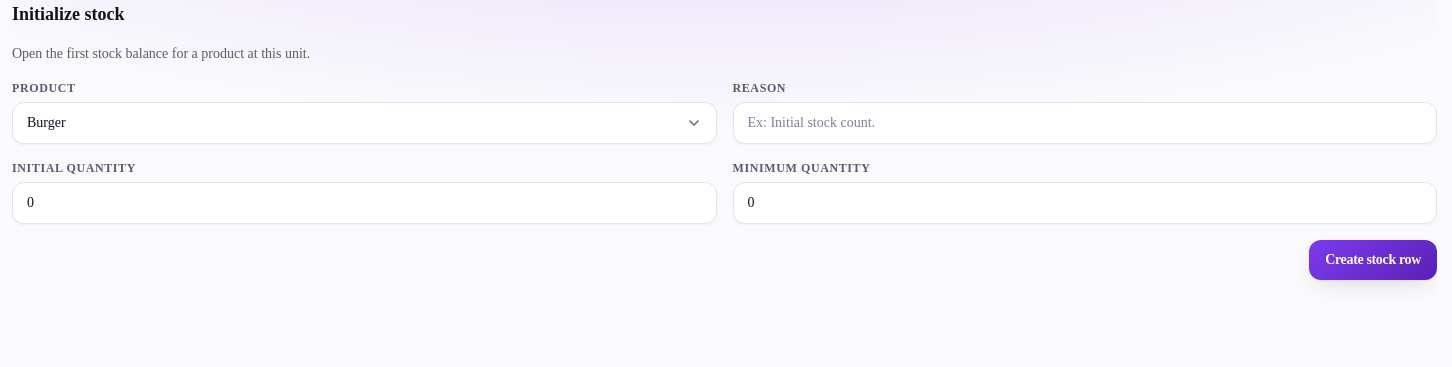
Test: InitStockForm › shows the generic failure message for an unmapped error
The width and height of the screenshot is (1452, 367).
In the field labelled "Reason": (1085, 123) [732,102,1437,144], type "x"
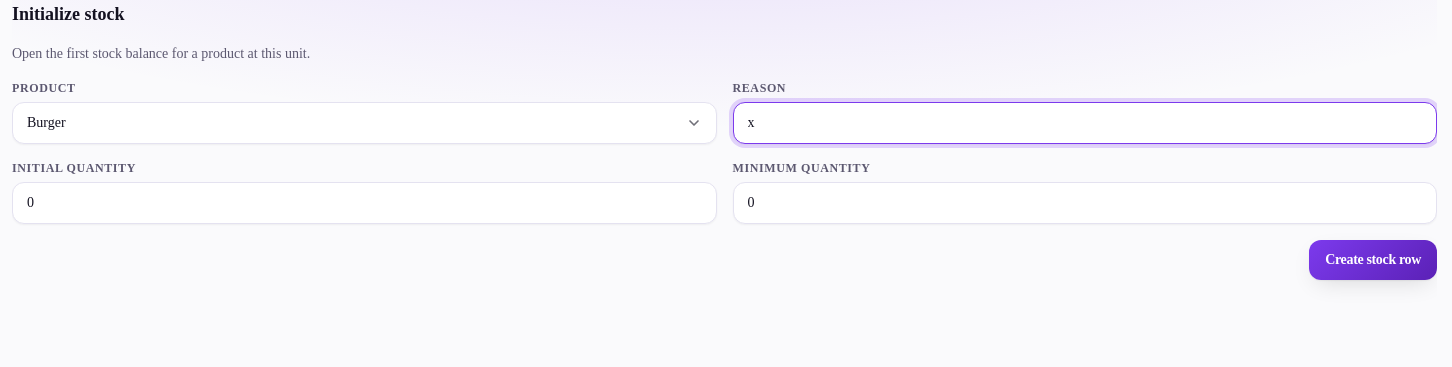
Click the button "Create stock row": (1373, 260) [1309,240,1437,280]
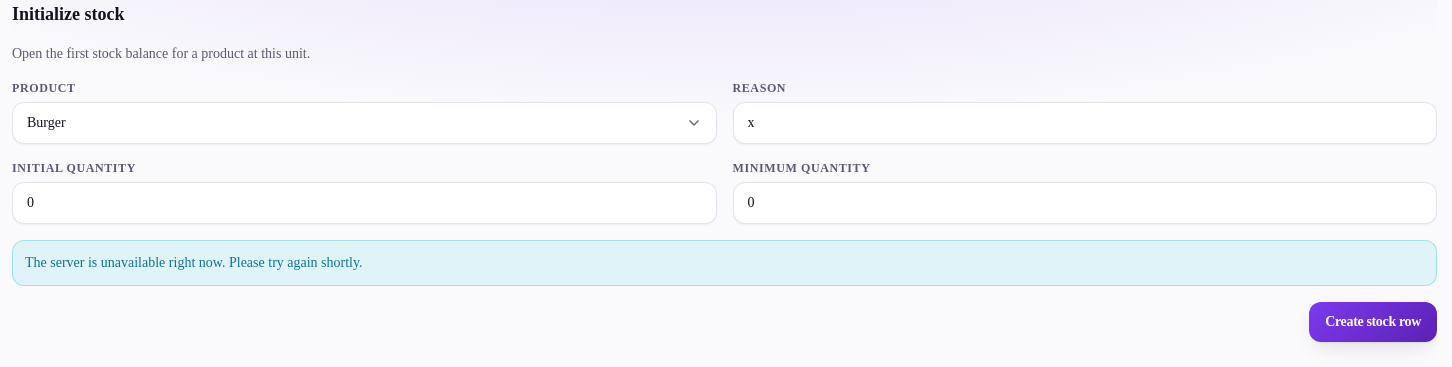
Check: the message shows "unavailable", box [25,255,363,270]
